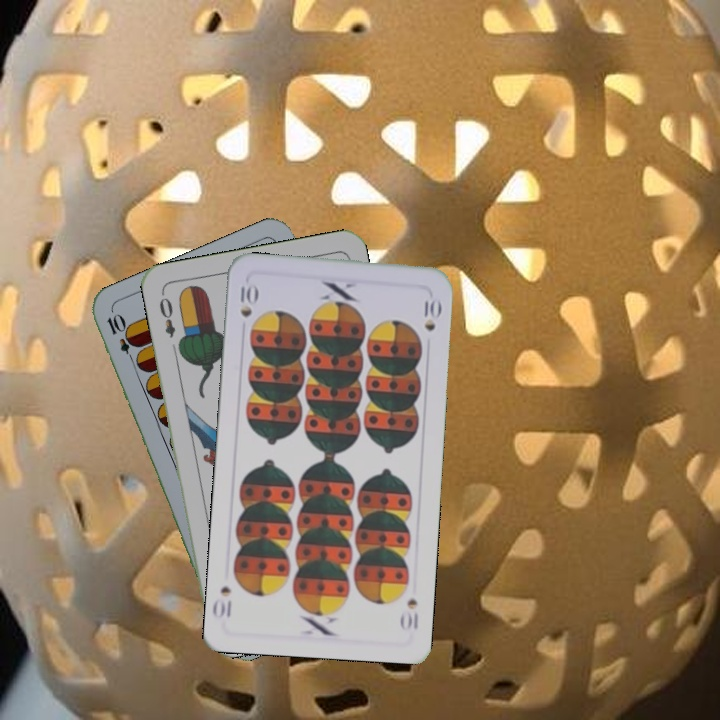E10: (102, 310, 140, 367)
EO: (155, 293, 178, 340)
S10: (397, 594, 421, 632), (236, 281, 259, 320)
